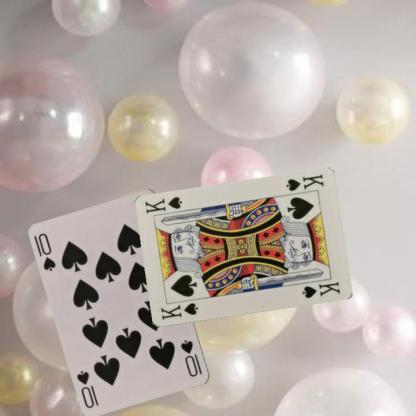10s: (178, 337, 204, 378), (36, 230, 58, 272)
Ks: (158, 300, 199, 322), (283, 172, 325, 193)
